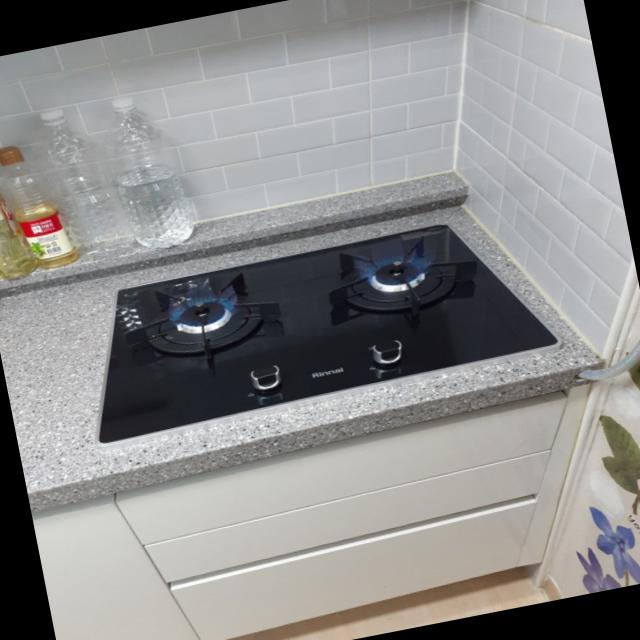knob_ON: (127, 267, 285, 368), (315, 233, 490, 322)
